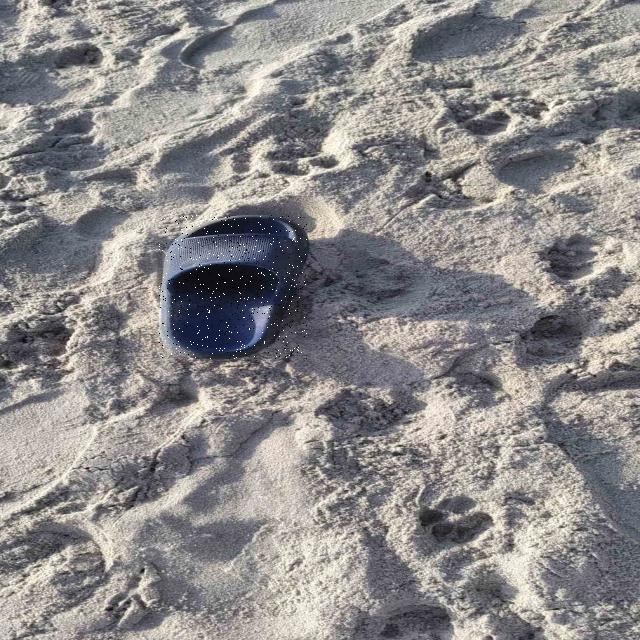other: (159, 215, 307, 359)
